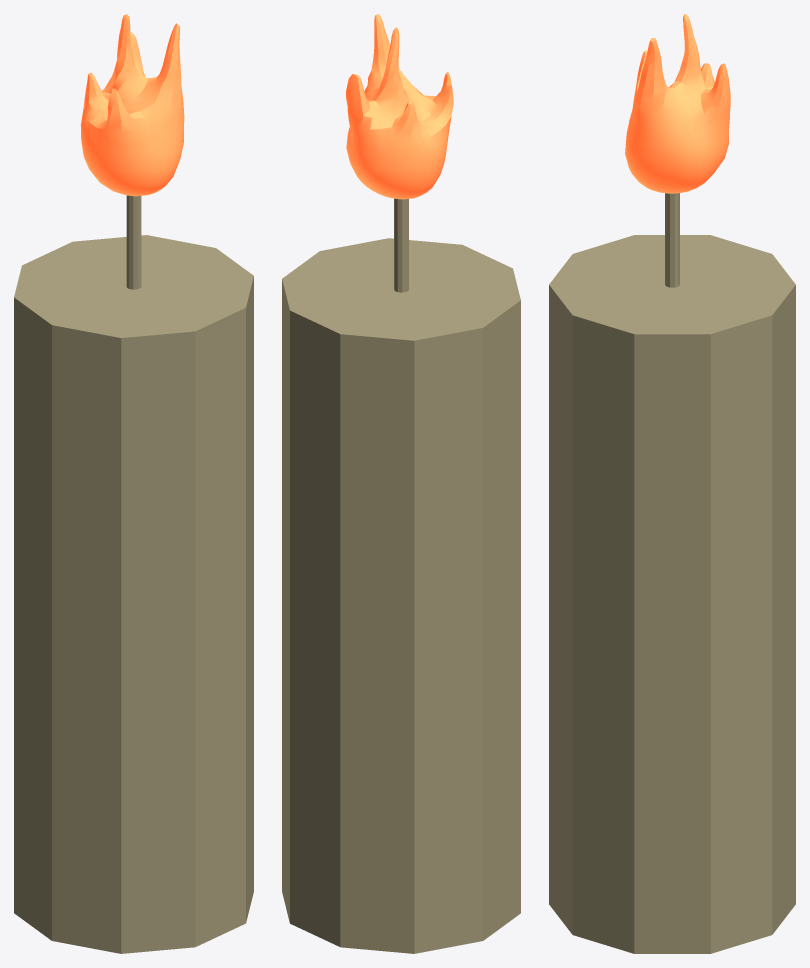
Rendered from FL_Candle 5.fbx.
3 renders of one model, left to right at view 1: azimuth 30°, elevation 25°; view 2: azimuth 150°, elevation 25°; view 3: azimuth 270°, elevation 25°, orthographic.
Visible parts, largest first — view 1: Candle 1.003; view 2: Candle 1.003; view 3: Candle 1.003.
Boxes of the visible parts, box(x1,y1,x2,y2) form: Candle 1.003: box(14, 14, 253, 953); Candle 1.003: box(282, 14, 520, 953); Candle 1.003: box(549, 14, 795, 953).
Size of the model in its own units: 22.83 by 95.46 by 24.
